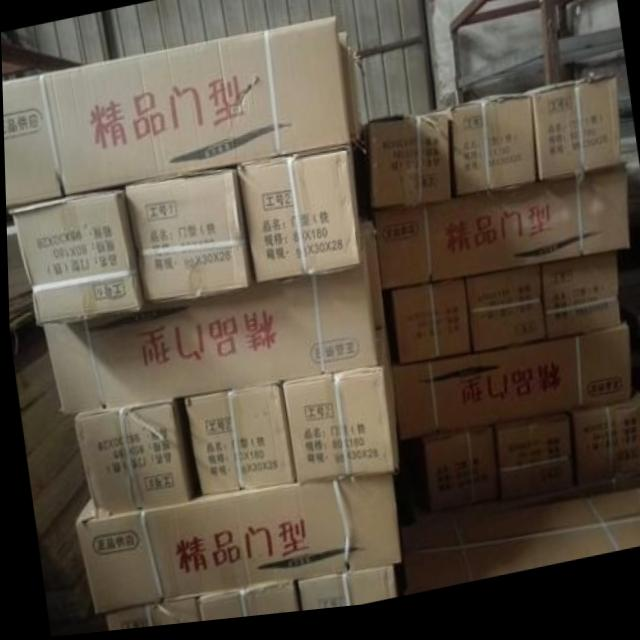box: (2, 24, 360, 207), (42, 254, 375, 417), (71, 480, 400, 617), (370, 174, 627, 297), (390, 331, 629, 446), (397, 499, 640, 601), (5, 188, 144, 329), (280, 334, 396, 487), (124, 171, 251, 305), (236, 151, 361, 287), (70, 400, 195, 515), (179, 386, 293, 494), (521, 86, 620, 191), (360, 119, 450, 214), (449, 107, 534, 205), (539, 261, 619, 353), (462, 272, 543, 362), (386, 285, 468, 373), (566, 402, 640, 499), (490, 421, 571, 507), (418, 433, 493, 517), (291, 573, 392, 617), (192, 586, 295, 625), (357, 220, 384, 336), (100, 601, 196, 633)
